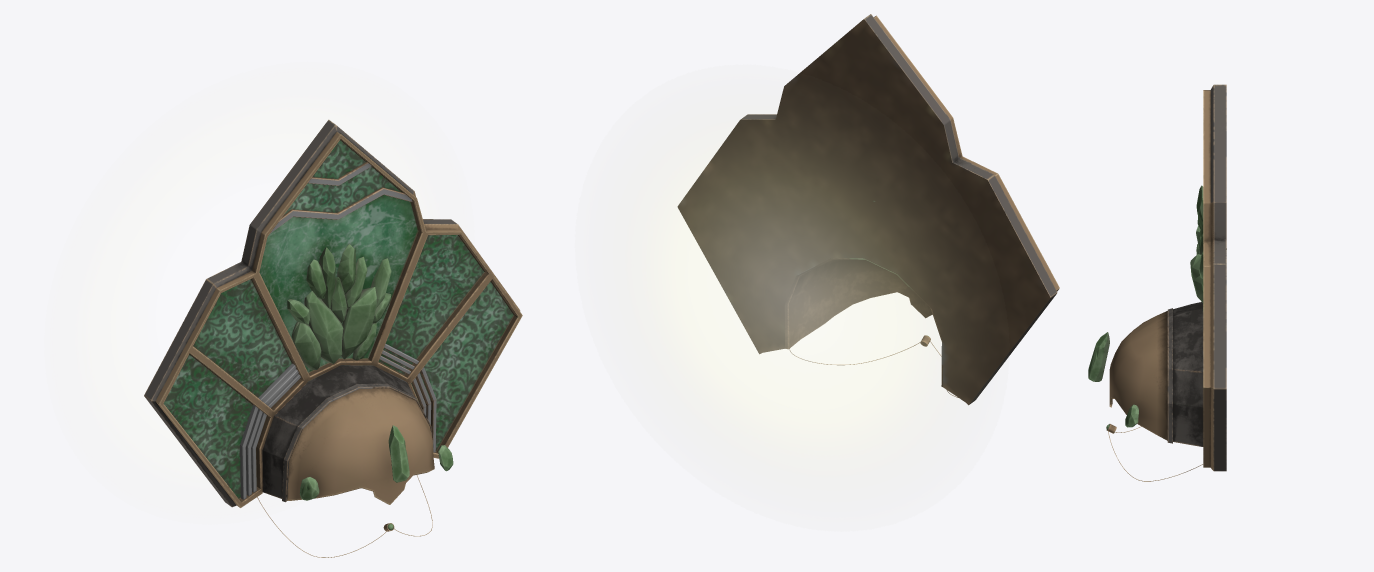
Rendered from kokoshnik.glb.
3 views of the same model, side by side, from view 1: azimuth 30°, elevation 25°; view 2: azimuth 150°, elevation 25°; view 3: azimuth 270°, elevation 25° (orthographic). The views are drawn at different scales.
Parts seen in each view (by area): view 1: polySurface30.658, polySurface30.003; view 2: polySurface30.658, polySurface30.003; view 3: polySurface30.658.
Boxes of the visible parts, left/top/right/bottom form: polySurface30.658: left=144, top=119, right=522, bottom=557; polySurface30.003: left=110, top=133, right=314, bottom=443; polySurface30.658: left=677, top=14, right=1059, bottom=405; polySurface30.003: left=642, top=137, right=942, bottom=459; polySurface30.658: left=1088, top=84, right=1226, bottom=481.
Bounding box in the file's own units: 43.51 × 45 × 22.32.
1 material, 1 textured.
